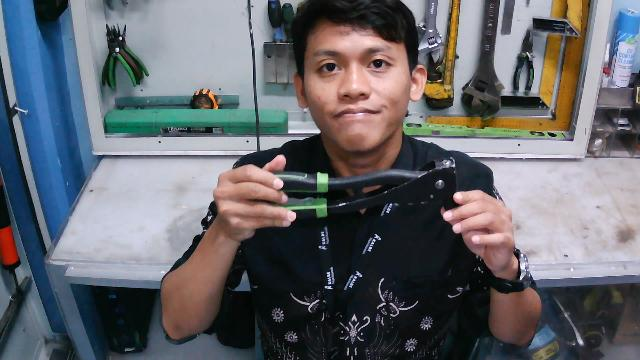tang_rivet: (253, 155, 459, 222)
